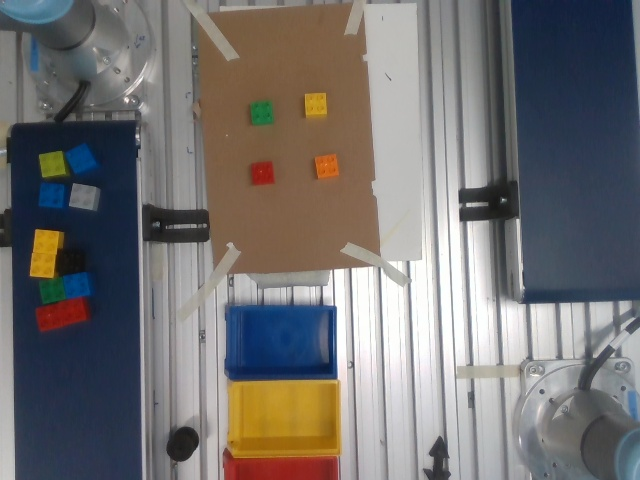duplo_4_red: (247, 159, 278, 187)
duplo_4_yellow: (302, 92, 329, 119)
ignore: (245, 98, 277, 128), (311, 152, 342, 181)
